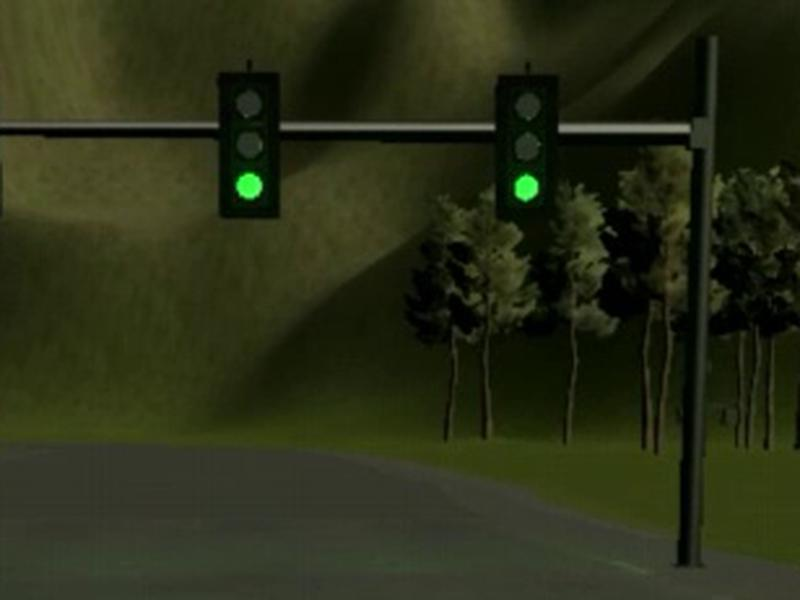Green: (498, 73, 560, 219), (218, 73, 279, 219)
